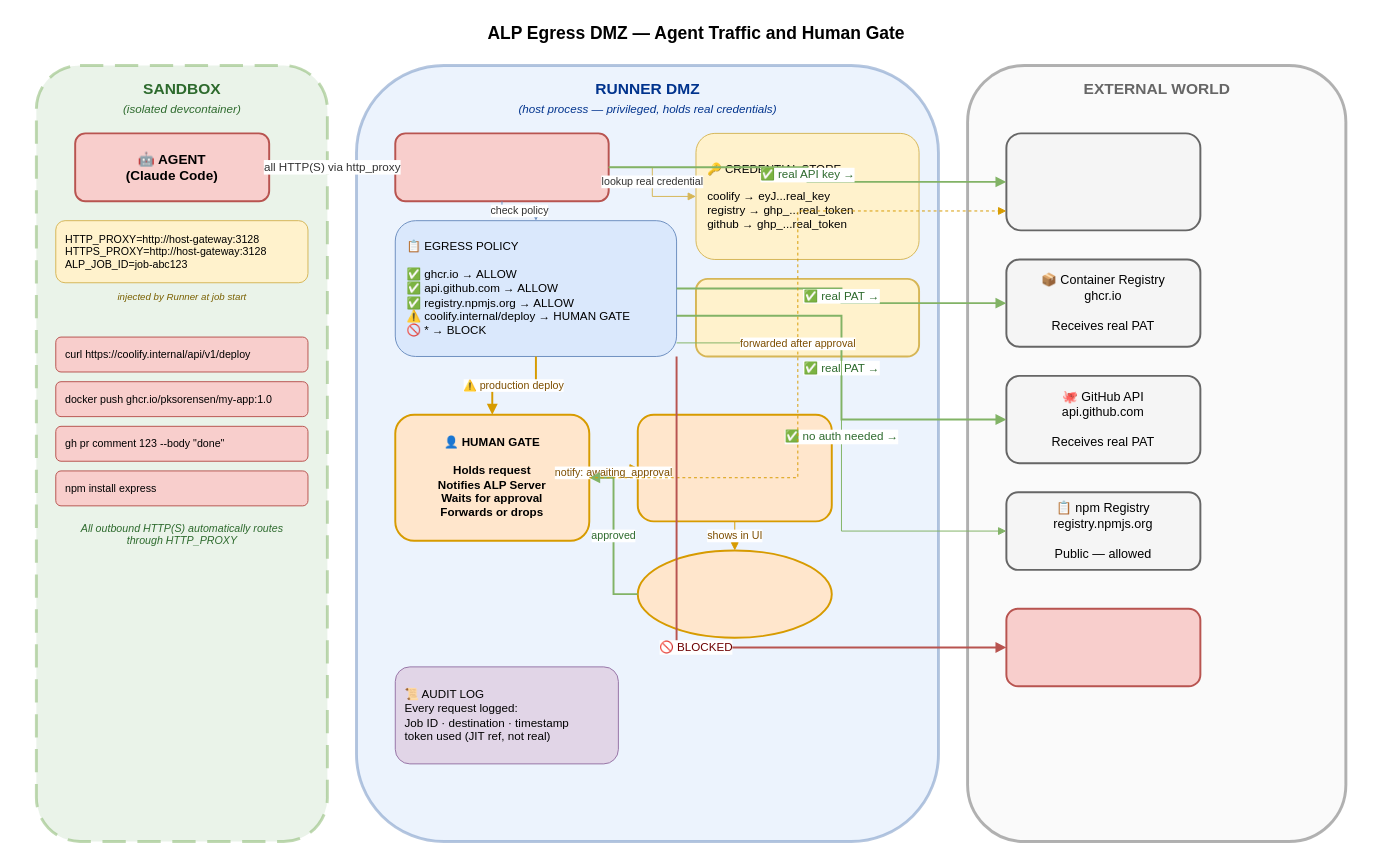
The diagram is 1391 pixels wide and 859 high, and some of its shapes have lost their labels. Each missing label, with the centre of its shape:
ALP SERVER (agentics.dk) Shows pending approval in the UI: the point at 734,467
❌ Unknown destinations internal network / etc. BLOCKED by policy: the point at 1103,647
👨‍💻 HUMAN APPROVER Reviews request details Clicks Approve / Deny: the point at 734,593
🔄 TOKEN SWAP JIT token IN → Real credential OUT Happens at the DMZ boundary: the point at 807,317
🚀 Coolify API coolify.internal Receives real API key (never the JIT token): the point at 1103,181
🛡️ EGRESS PROXY host-gateway:3128: the point at 501,167
